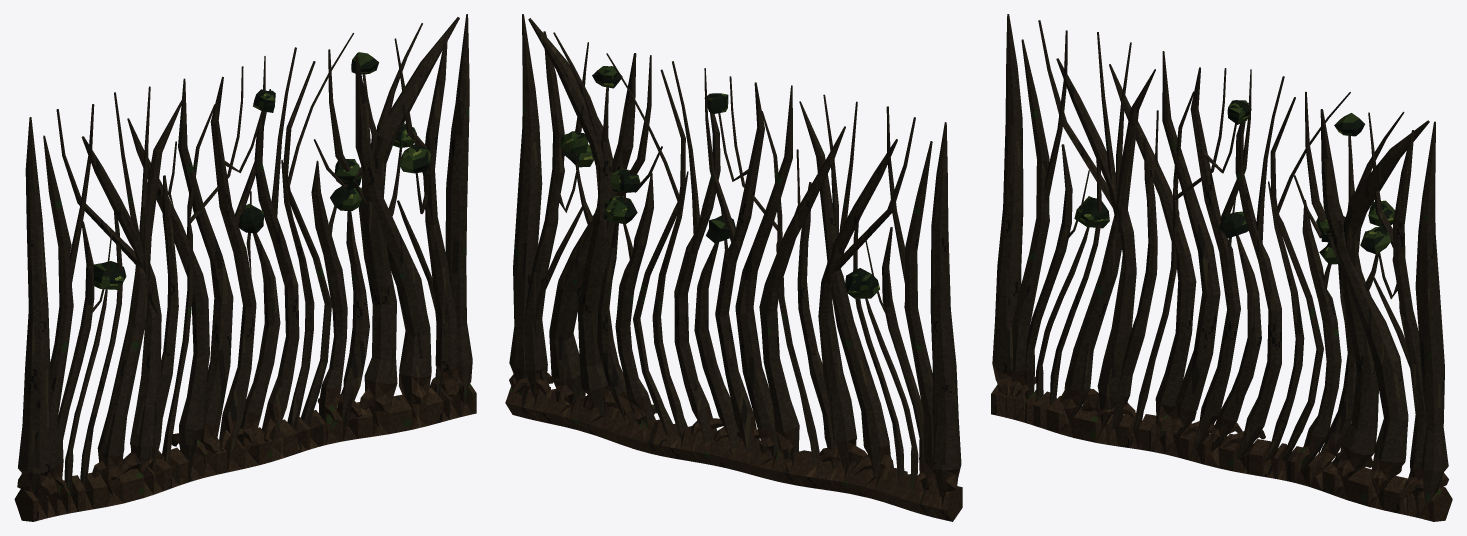
File: forest_bars.glb
3 renders of one model, left to right at view 1: azimuth 30°, elevation 25°; view 2: azimuth 150°, elevation 25°; view 3: azimuth 330°, elevation 25°, orthographic.
Visible parts, largest first — view 1: ForestBars; view 2: ForestBars; view 3: ForestBars.
Part boxes in pixels (x1,y1,x2,y2): ForestBars: (14,14,476,521); ForestBars: (505,14,962,521); ForestBars: (991,14,1452,521).
Size of the model in its own units: 10.78 by 9.18 by 1.29.
2 materials, 2 textured.
